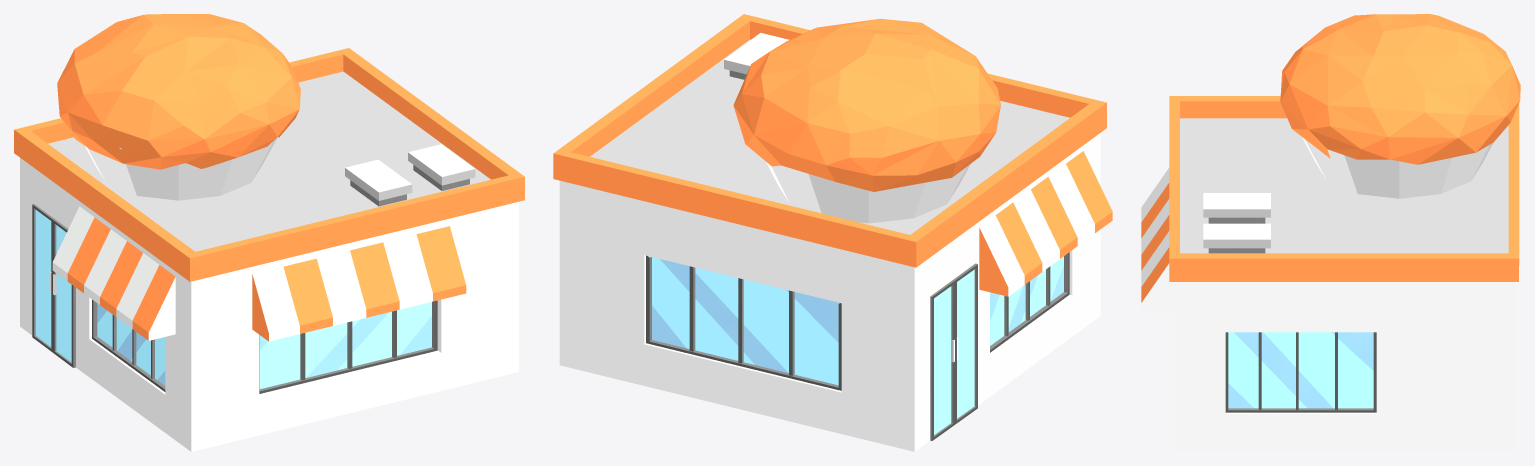
The model's file is tile_for_home_1x1.006 (14) muffin.glb.
3 views of the same model, side by side, from view 1: azimuth 30°, elevation 25°; view 2: azimuth 150°, elevation 25°; view 3: azimuth 270°, elevation 25° (orthographic). The views are drawn at different scales.
Parts seen in each view (by area): view 1: snack.005; view 2: snack.005; view 3: snack.005.
Boxes of the visible parts, x1,y1,x2,y2 form: snack.005: (14,14,524,451); snack.005: (553,14,1112,451); snack.005: (1141,14,1520,451).
Size of the model in its own units: 6.11 by 5.1 by 5.63.
Materials: 1 (1 with a texture image).
